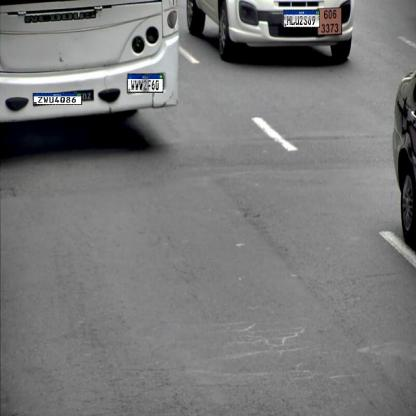PlacaM: (127, 73, 164, 93), (283, 10, 320, 28), (33, 93, 82, 105)
